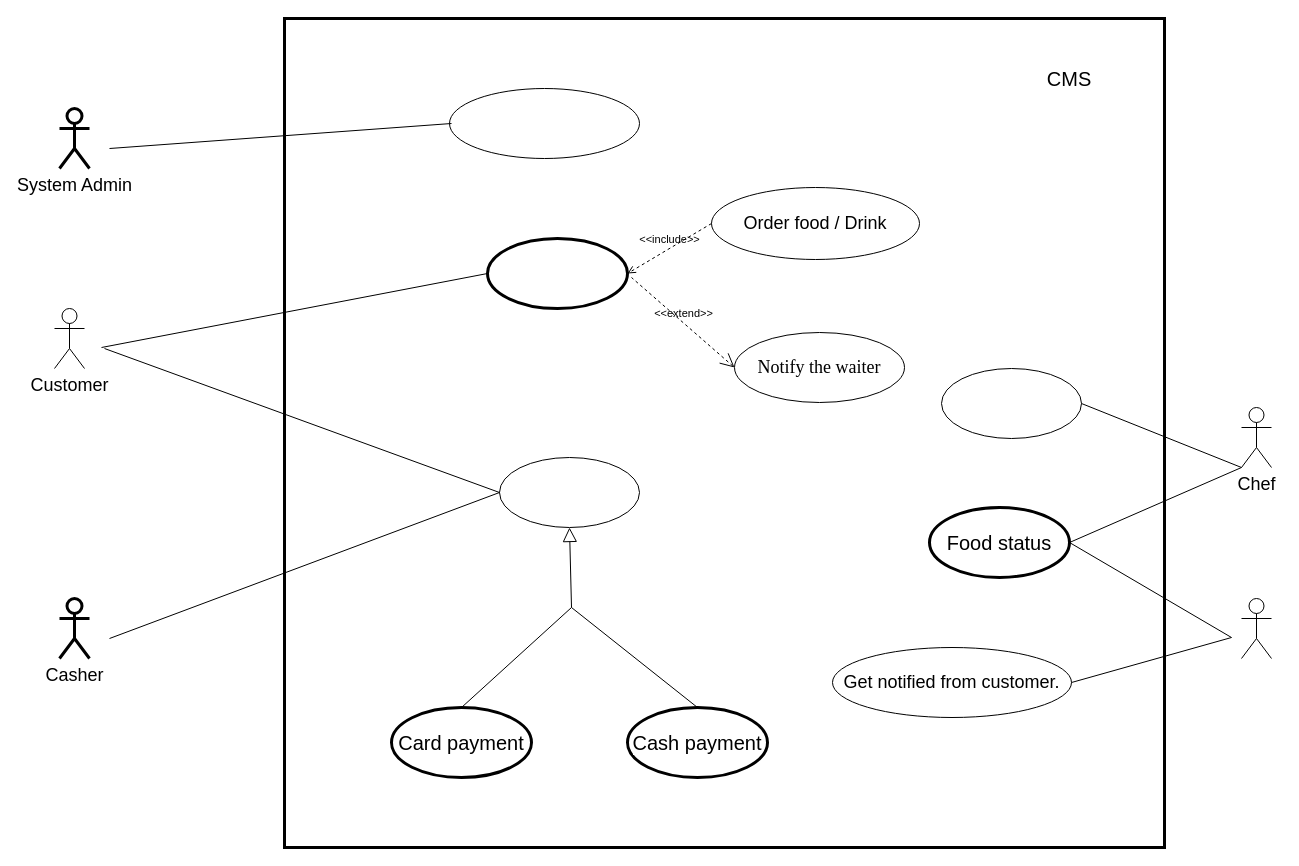
Some shapes in this 1299 by 866 pixel diagram are drawn without their labels. The shapes that lost their labels are listed below. From the top down, each one's centre as x and y in pixels, then its label:
At point 544,123: "Configure CMS".
At point 557,273: "Visit Website".
At point 1011,403: "Receive order".
At point 569,492: "Pay".
At point 1256,628: "Waiter".
